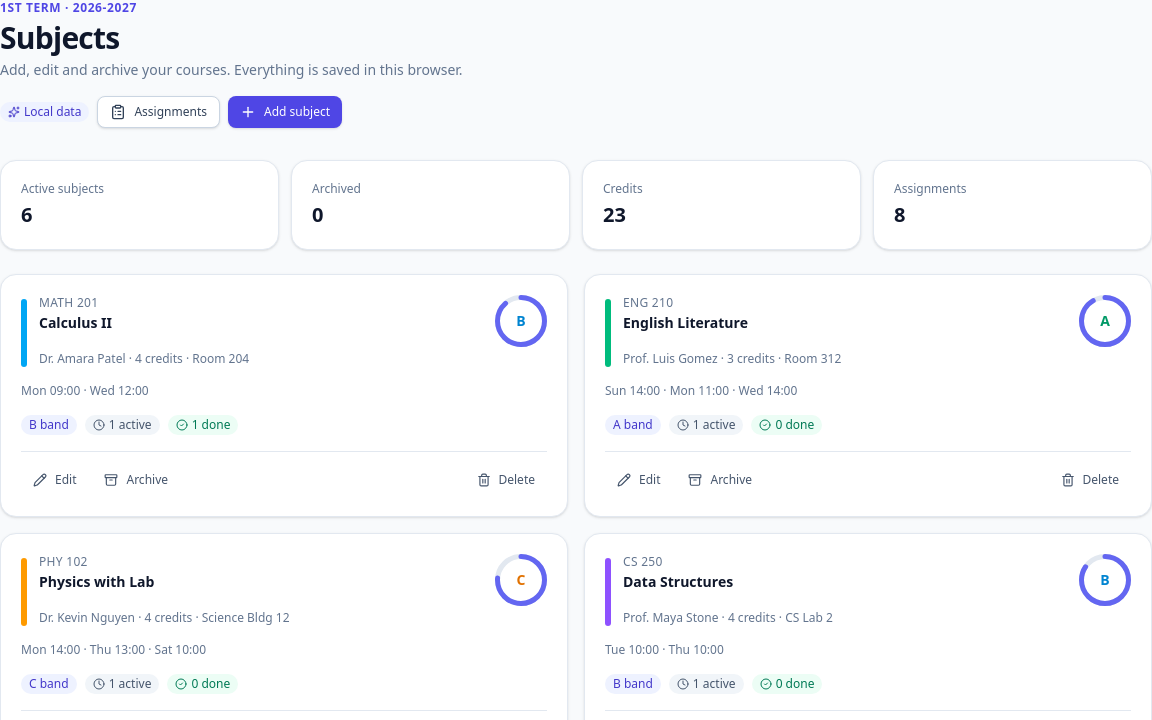
SubjectsPage › requires explicit confirmation before permanently deleting
Click the button with aria-label "Delete Calculus II". click: (506, 480)
box: left=464, top=464, right=547, bottom=496
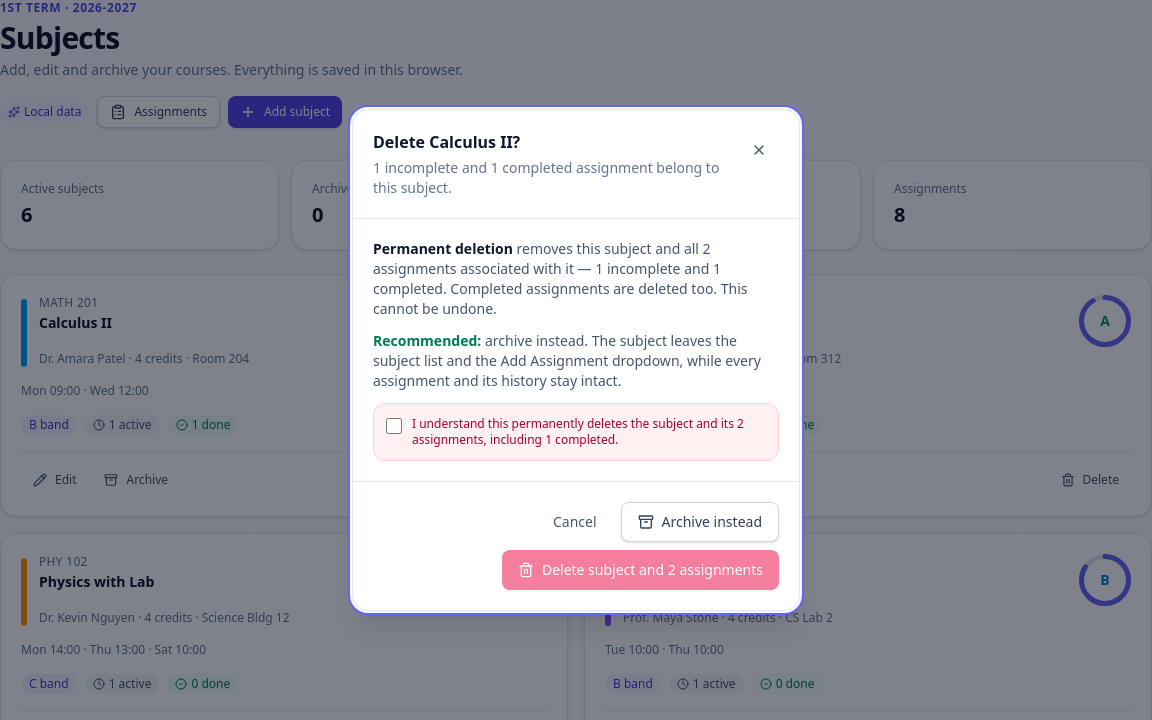
expect the button "Delete subject and 2 assignments" is disabled: met, box left=502, top=550, right=779, bottom=590
Click the checkbox. click: (394, 426)
box: left=386, top=418, right=402, bottom=434
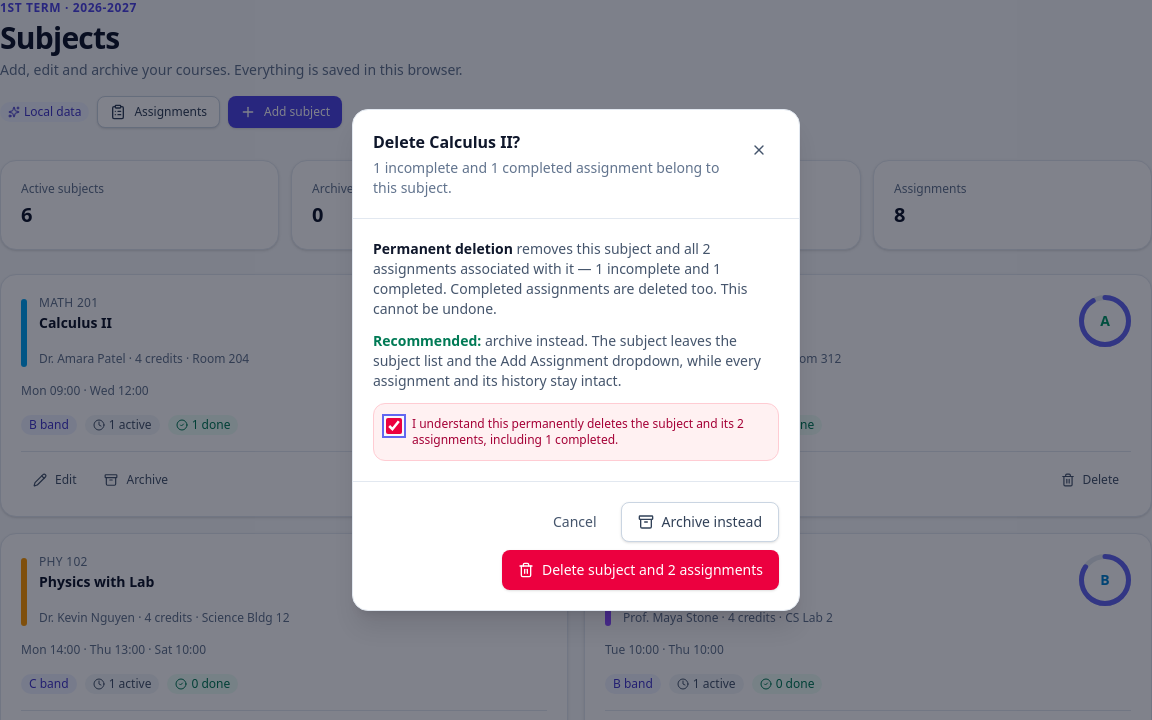
expect the button "Delete subject and 2 assignments" is enabled: met, box left=502, top=550, right=779, bottom=590
